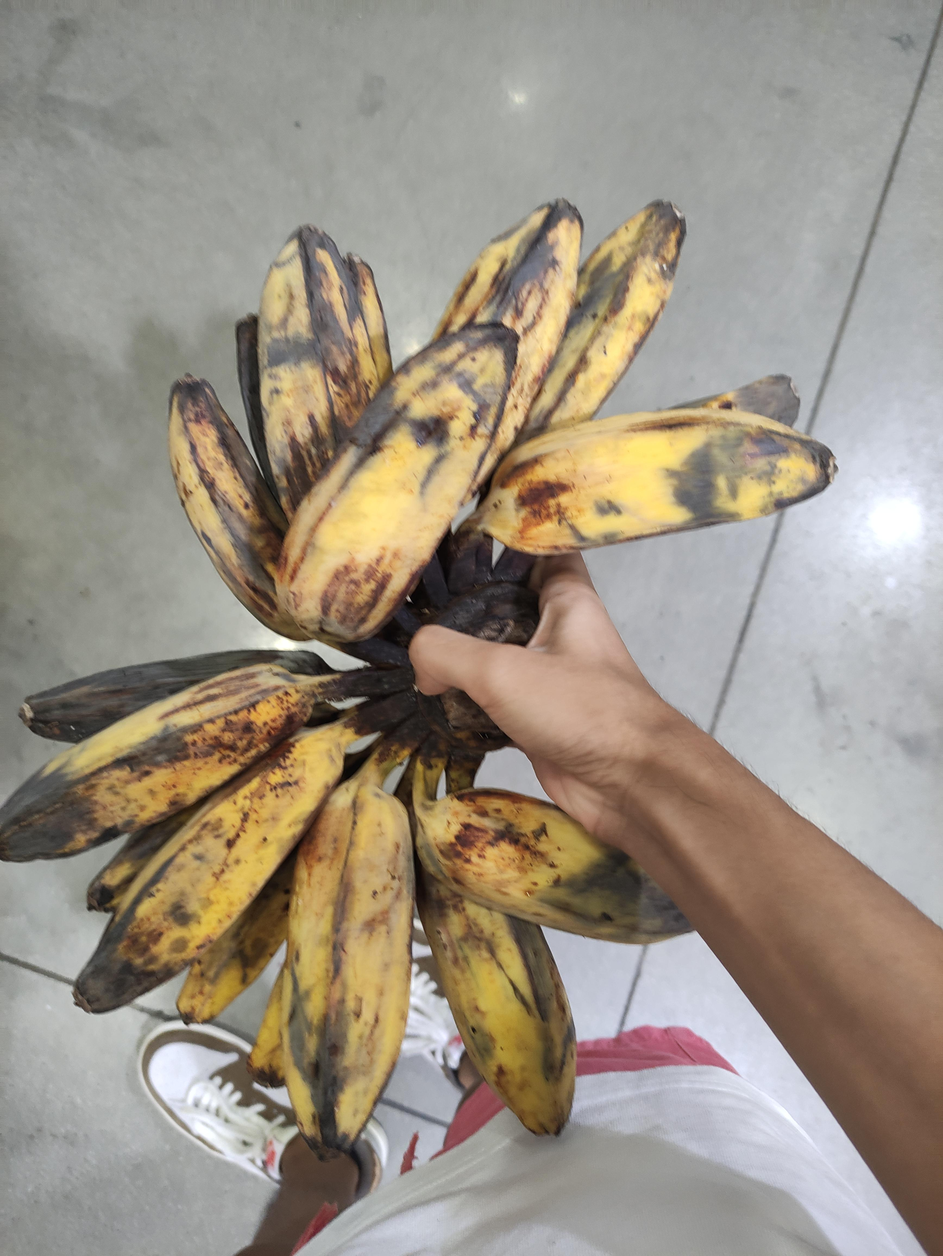ripe: (0, 651, 696, 1162), (169, 199, 837, 644)
